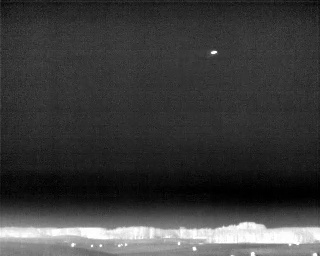AIRPLANE: (209, 48, 219, 57)
